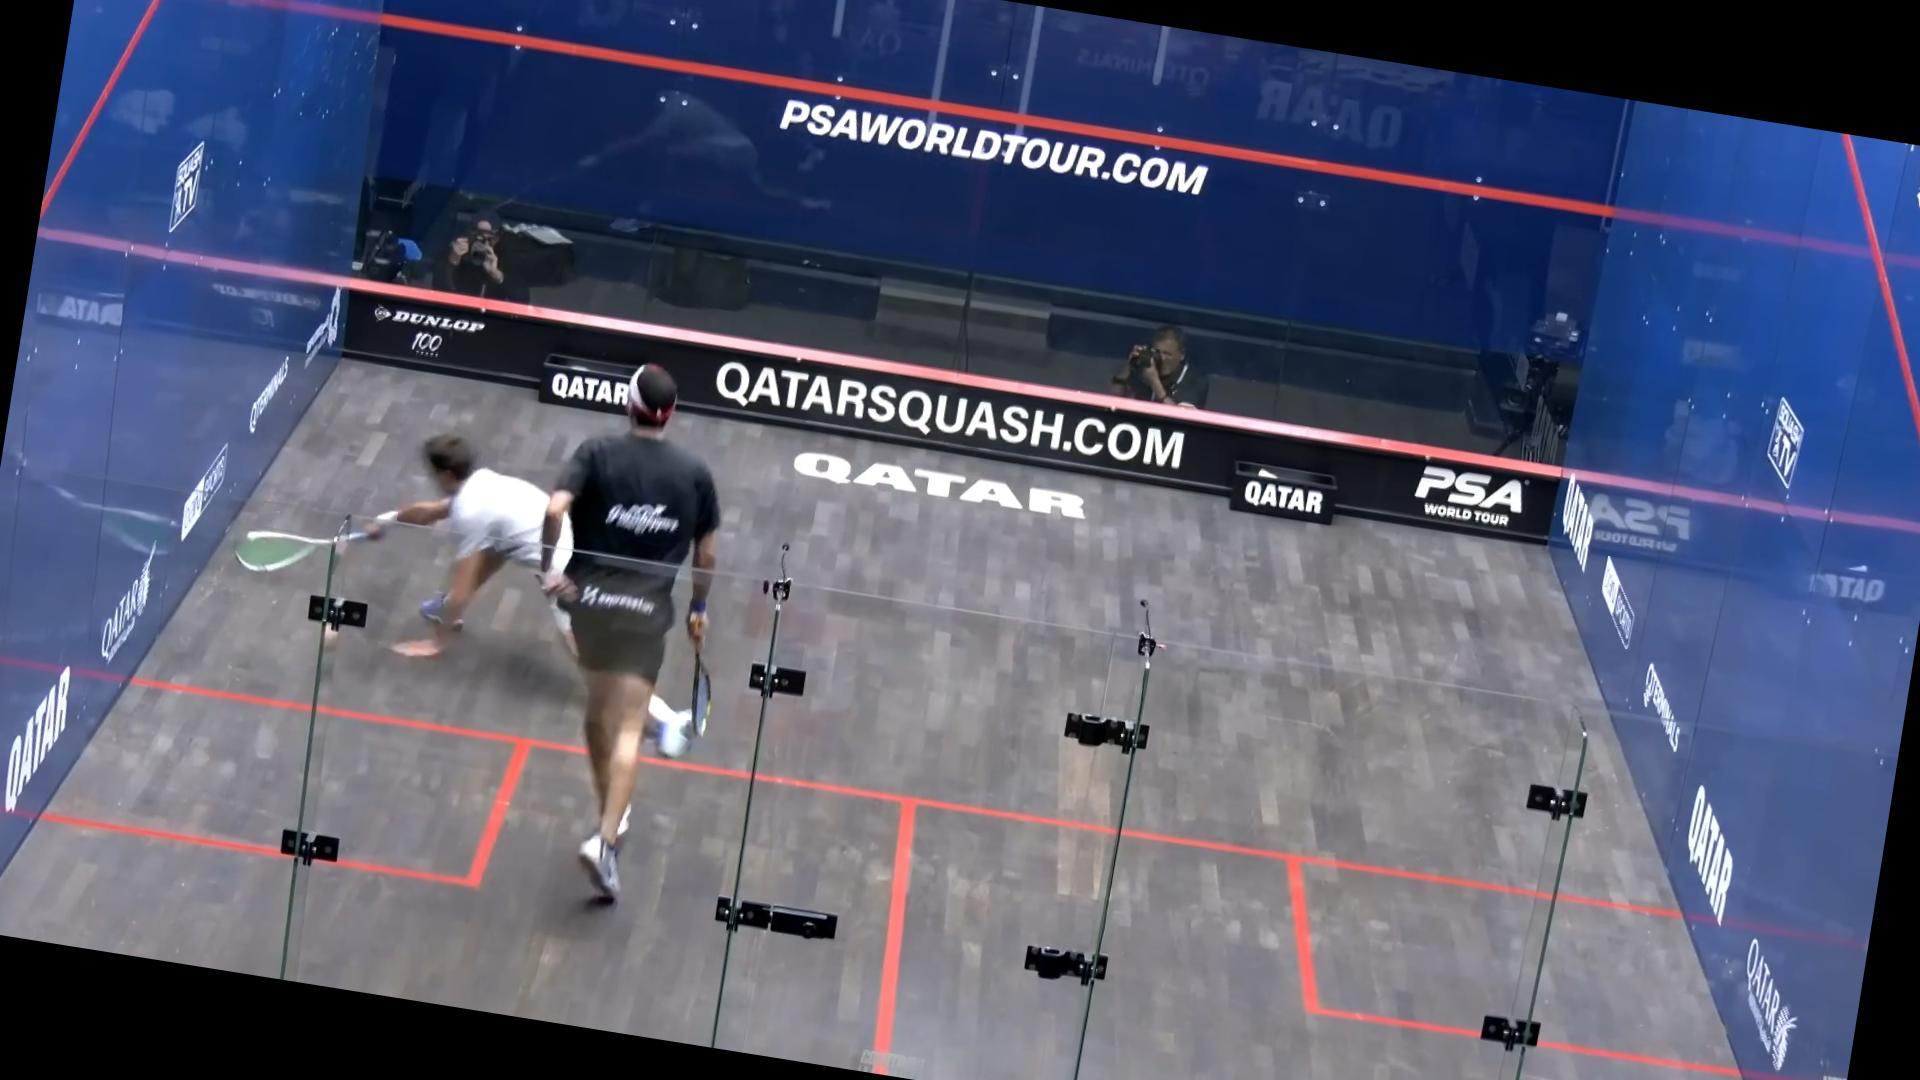Racket: (224, 512, 380, 600), (670, 633, 731, 741)
